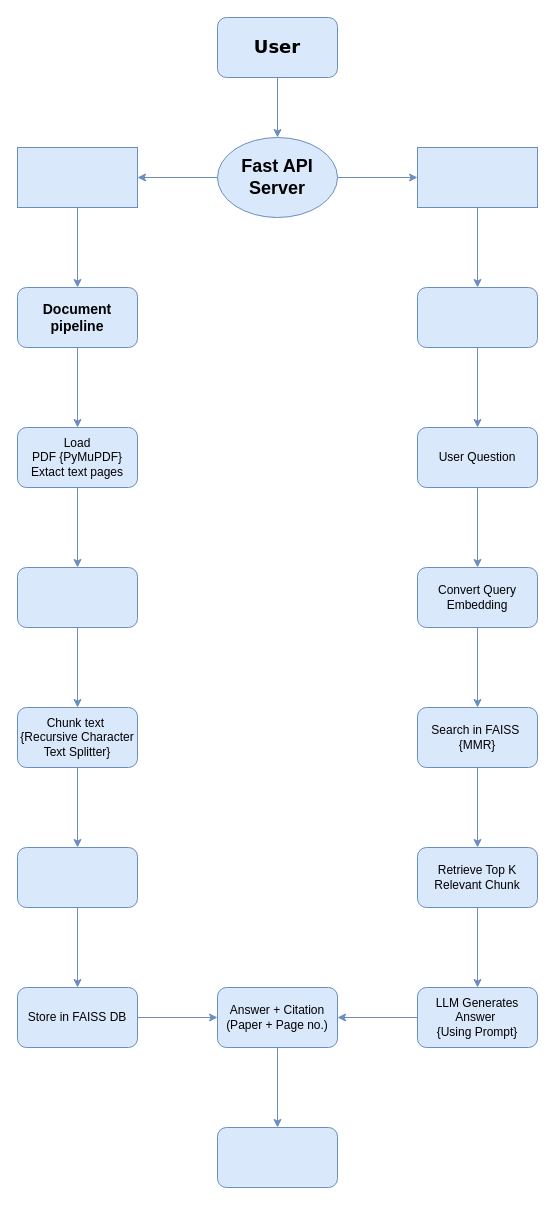
The diagram is 555 pixels wide and 1205 high, and some of its shapes have lost their labels. Here are the shapes that lost their labels. From the top down, the centre of each, then its label:
the point at 77,177: /upload
the point at 477,177: /chat
the point at 477,317: Query pipeline
the point at 77,597: Add metadata (paper, page no.)
the point at 77,877: Create Embeddings
the point at 277,1157: Return to User
